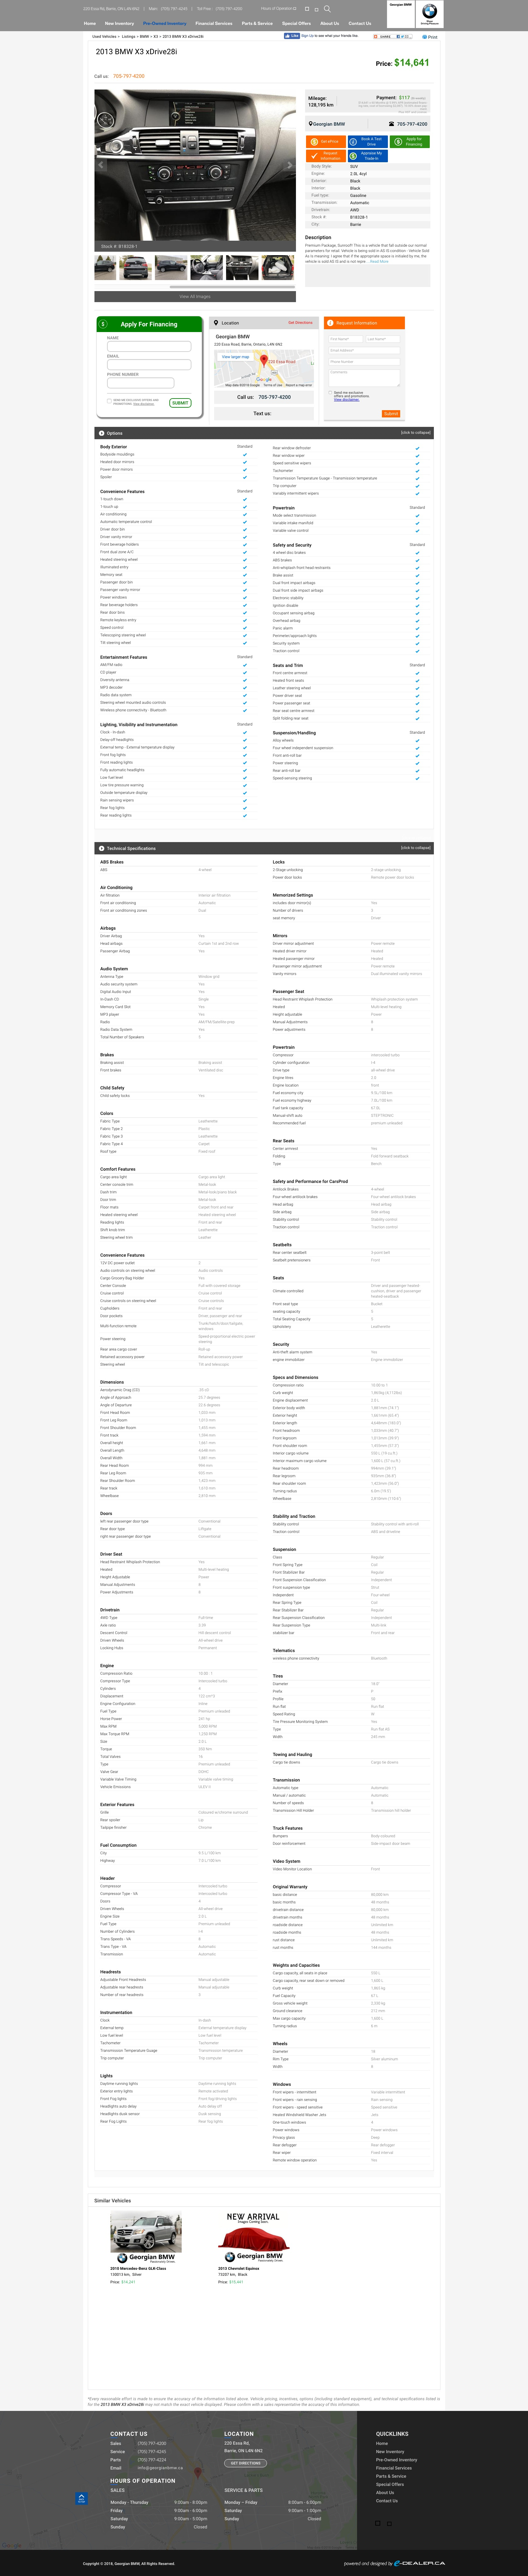car: (287, 161, 294, 169)
